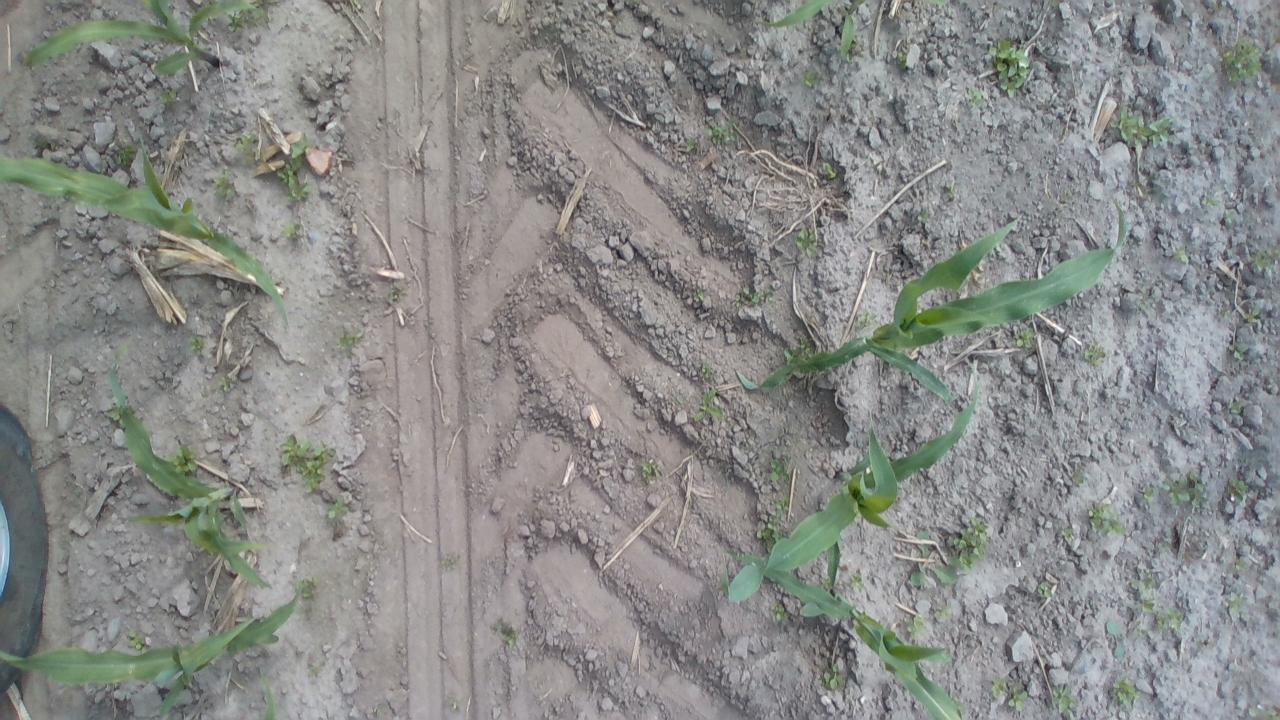Maize: (728, 191, 1130, 396), (714, 366, 995, 606), (0, 131, 295, 331), (724, 544, 980, 720), (94, 370, 282, 598), (0, 582, 309, 720), (20, 0, 272, 82), (768, 0, 917, 60)
Weeds: (278, 434, 336, 494), (910, 532, 964, 591), (988, 34, 1033, 99), (950, 514, 999, 570), (1110, 105, 1176, 146), (278, 132, 312, 209), (1218, 36, 1262, 86), (1156, 468, 1208, 510), (752, 494, 793, 546), (783, 328, 821, 365), (1086, 502, 1126, 536), (1048, 678, 1078, 718), (491, 616, 523, 650), (820, 658, 849, 694), (292, 572, 322, 606), (694, 389, 724, 423), (234, 128, 260, 167), (1111, 678, 1144, 708), (694, 356, 724, 389), (732, 286, 776, 308), (1102, 618, 1126, 658), (794, 222, 822, 256), (899, 198, 930, 228), (706, 117, 738, 146), (432, 545, 465, 573), (104, 142, 138, 169), (214, 164, 238, 202), (170, 444, 200, 474), (1250, 244, 1280, 273), (767, 456, 796, 486), (335, 324, 363, 354), (1155, 606, 1183, 636), (1080, 340, 1106, 372), (634, 457, 662, 484), (1242, 701, 1280, 720), (124, 626, 150, 652), (903, 614, 929, 640), (852, 304, 877, 331), (324, 495, 346, 525), (930, 604, 956, 628), (936, 175, 958, 202), (108, 404, 131, 429), (1013, 328, 1039, 350), (1221, 592, 1243, 618), (1170, 243, 1192, 268), (988, 678, 1013, 700), (1226, 476, 1248, 500), (770, 602, 794, 624), (186, 328, 204, 357), (1231, 340, 1251, 366), (1010, 691, 1036, 711), (1054, 526, 1080, 546), (224, 10, 247, 32), (282, 220, 304, 242), (444, 694, 466, 716), (966, 88, 988, 110), (814, 160, 836, 182), (690, 284, 712, 306), (801, 68, 825, 88), (1136, 572, 1158, 593), (1227, 395, 1244, 422), (386, 282, 404, 306), (1138, 596, 1160, 615), (849, 570, 868, 592), (1246, 304, 1262, 330), (220, 373, 240, 393), (893, 47, 912, 68), (1134, 620, 1152, 642), (305, 661, 325, 680), (1216, 303, 1235, 323), (1038, 580, 1056, 601), (158, 86, 178, 104), (1136, 481, 1155, 499), (1232, 558, 1251, 576), (372, 703, 391, 720), (1220, 210, 1236, 228), (819, 574, 834, 592), (1202, 192, 1216, 211), (686, 135, 700, 153)
